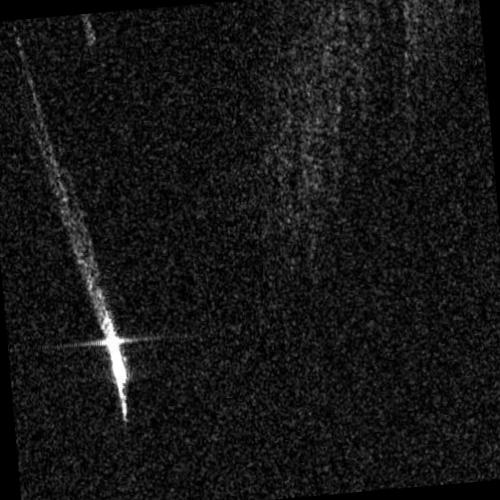ship: (100, 309, 127, 398)
